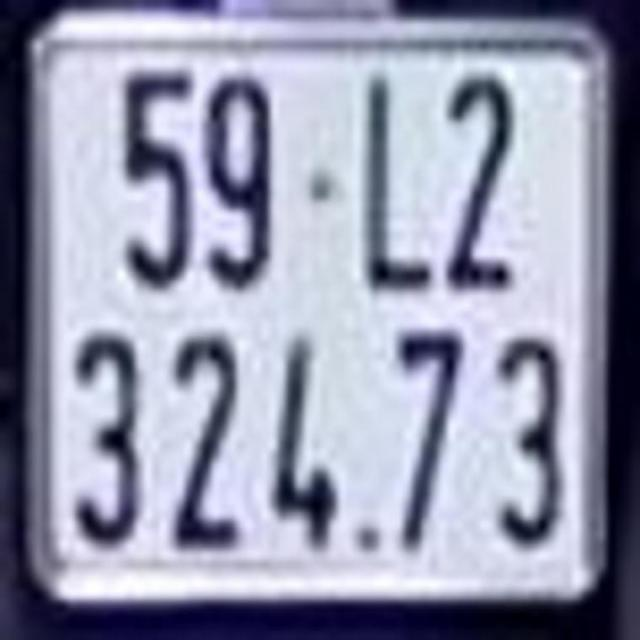2: (449, 74, 514, 289), (174, 331, 238, 544)
3: (70, 332, 141, 542), (496, 336, 564, 547)
4: (273, 333, 334, 550)
5: (125, 68, 192, 287)
7: (400, 330, 458, 551)
9: (205, 71, 278, 292)
L: (362, 72, 435, 287)
